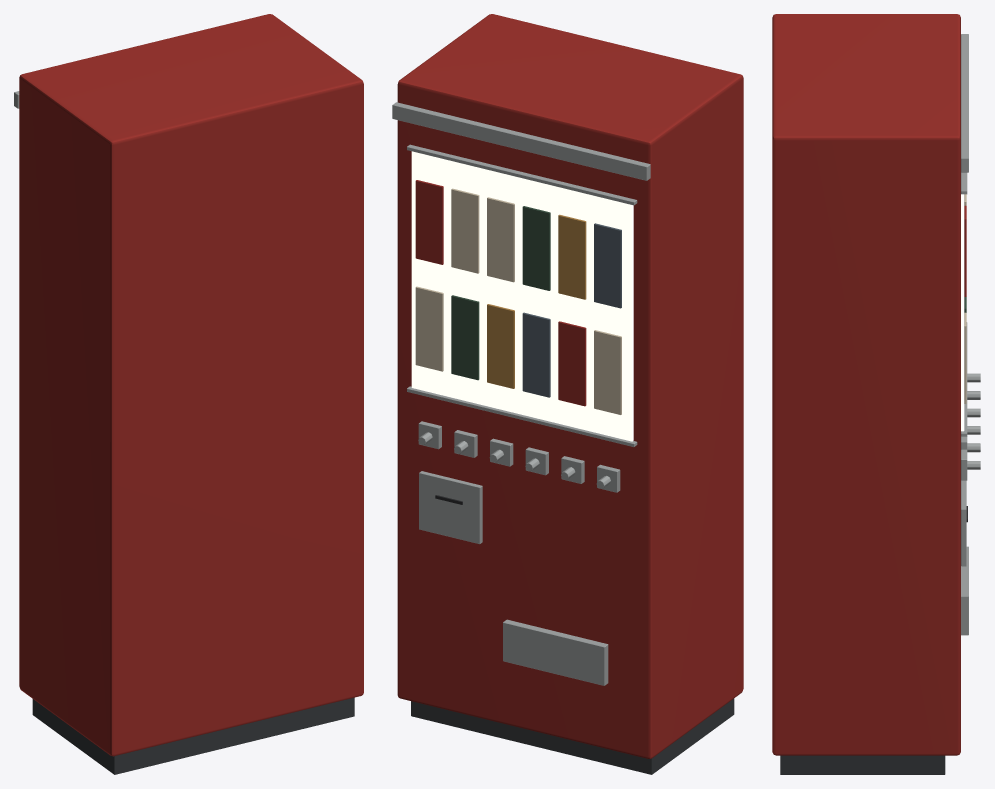
The model's file is prop_ah_cigarette_machine.glb.
3 renders of one model, left to right at view 1: azimuth 30°, elevation 25°; view 2: azimuth 150°, elevation 25°; view 3: azimuth 270°, elevation 25°, orthographic.
Visible parts, largest first — view 1: Body; view 2: Body; view 3: Body.
Boxes of the visible parts, bbox=[...] form: Body: bbox=[14, 14, 363, 774]; Body: bbox=[392, 14, 743, 774]; Body: bbox=[772, 14, 980, 774].
Bounding box in the file's own units: 0.75 × 1.8 × 0.53.
